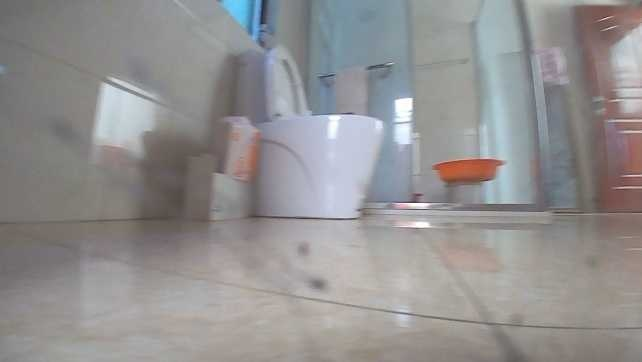toilet: (228, 42, 389, 220)
